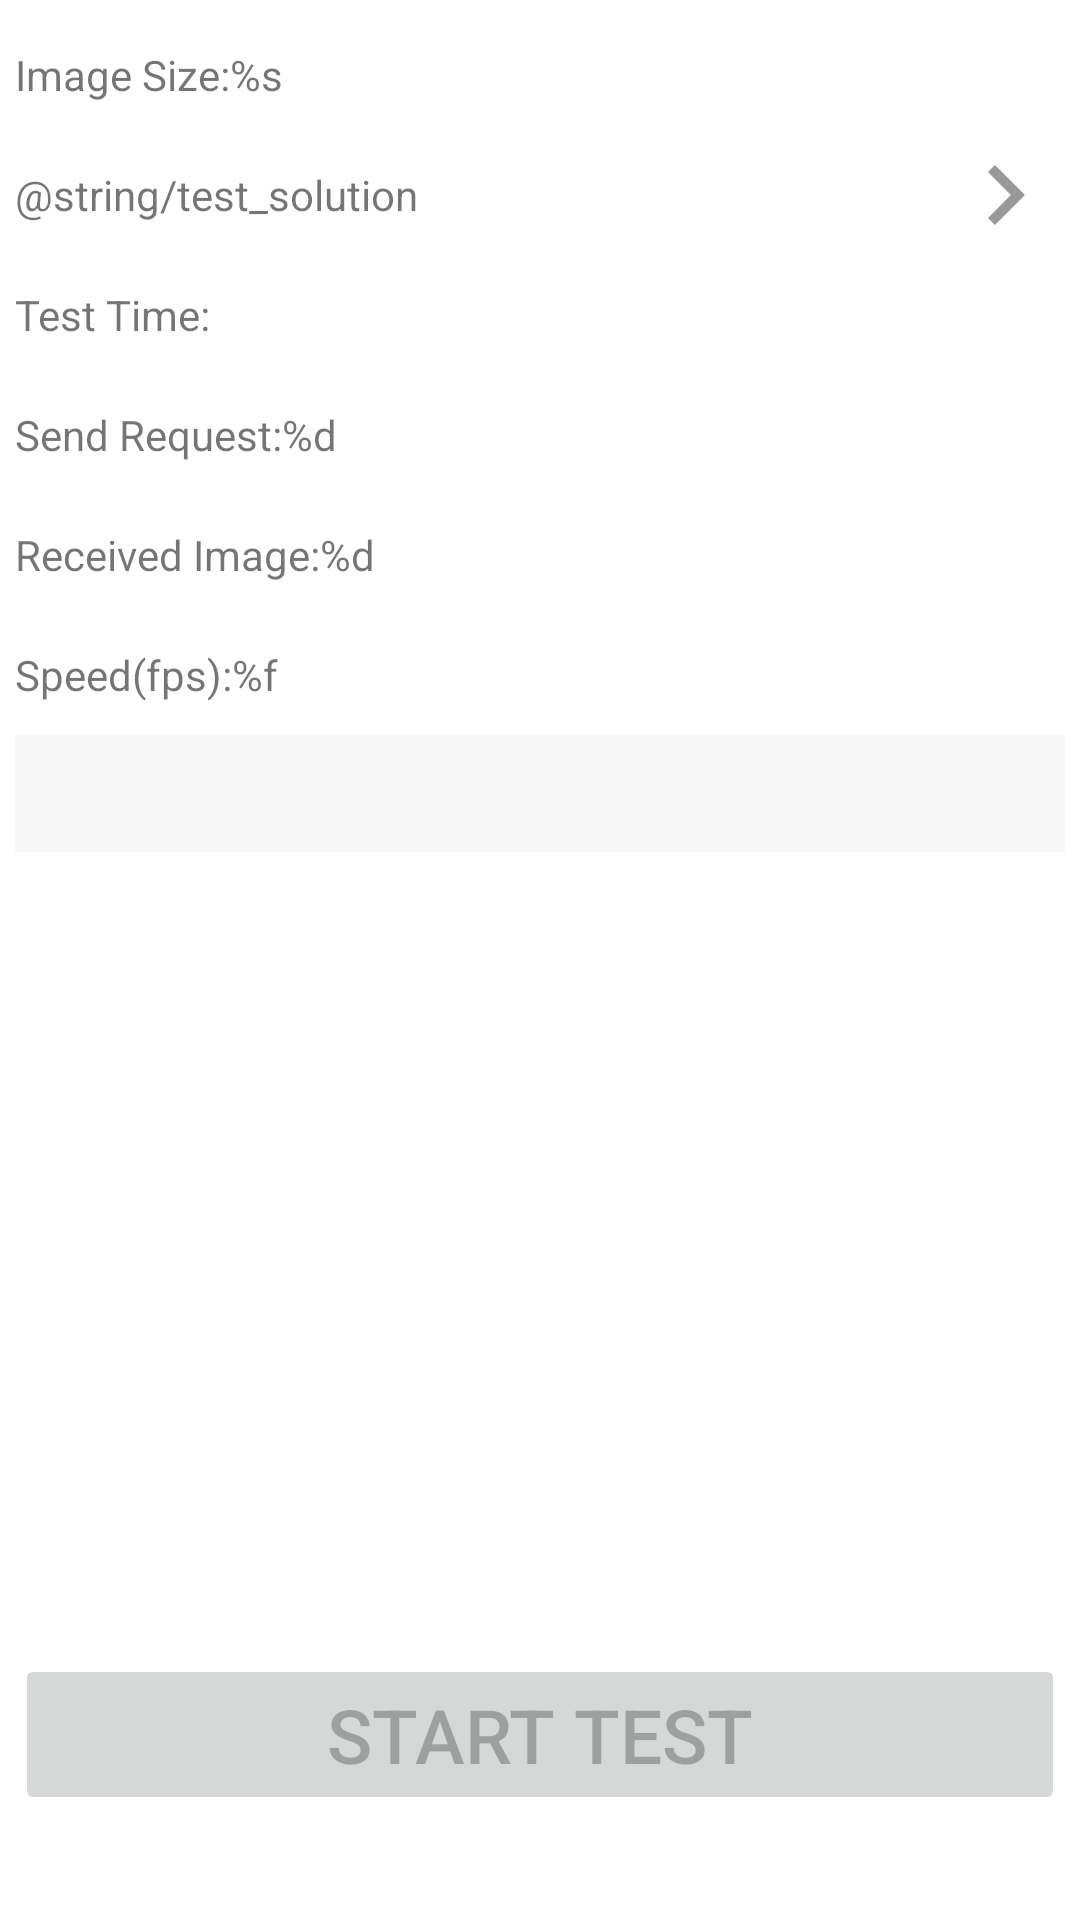

Icon click points for this 1080x1920 phone screenshot, format point (x, y):
chevron right: point (1006, 195)
